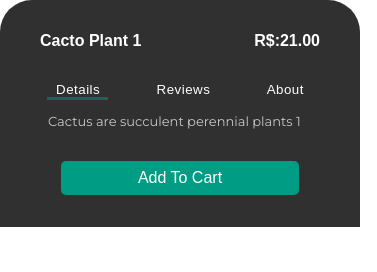
it: <PlantInfo /> › should render the correct tab
The image size is (377, 272).
Click the button "Reviews": (183, 90) [148,74,218,105]
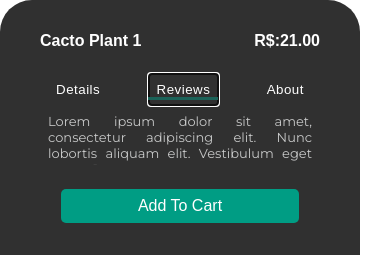
Check: the text "Lorem ipsum dolor sit amet, consectetur adipiscing elit. Nunc lobortis aliquam elit. Vestibulum eget metus 1" is shown, box [48,113,312,177]
